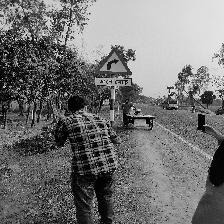Right-turn: (94, 48, 133, 88)
